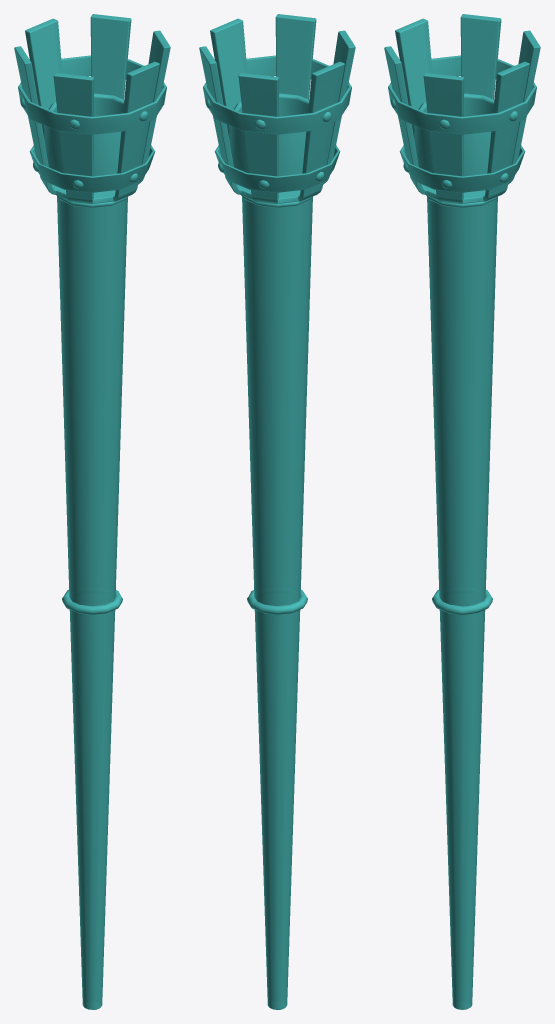
File: SM_Torch_01_Unity.fbx
3 renders of one model, left to right at view 1: azimuth 30°, elevation 25°; view 2: azimuth 150°, elevation 25°; view 3: azimuth 270°, elevation 25°, orthographic.
Visible parts, largest first — view 1: SM_Torch_01_VCap_low; view 2: SM_Torch_01_VCap_low; view 3: SM_Torch_01_VCap_low.
Part boxes in pixels (<box>): SM_Torch_01_VCap_low: <box>14,14,170,1009</box>; SM_Torch_01_VCap_low: <box>199,14,355,1009</box>; SM_Torch_01_VCap_low: <box>384,14,540,1009</box>.
Bounding box in the file's own units: 27.07 × 183 × 27.07.
